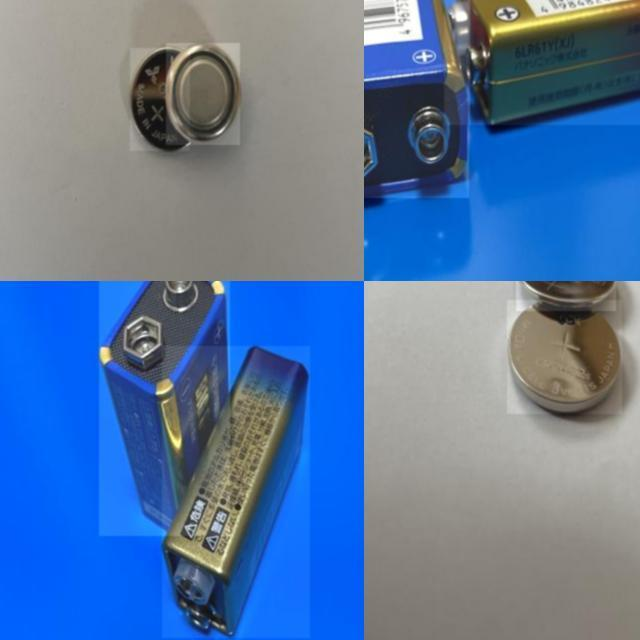9V: (162, 346, 310, 638), (99, 281, 230, 536), (444, 0, 640, 125), (364, 0, 469, 198)
